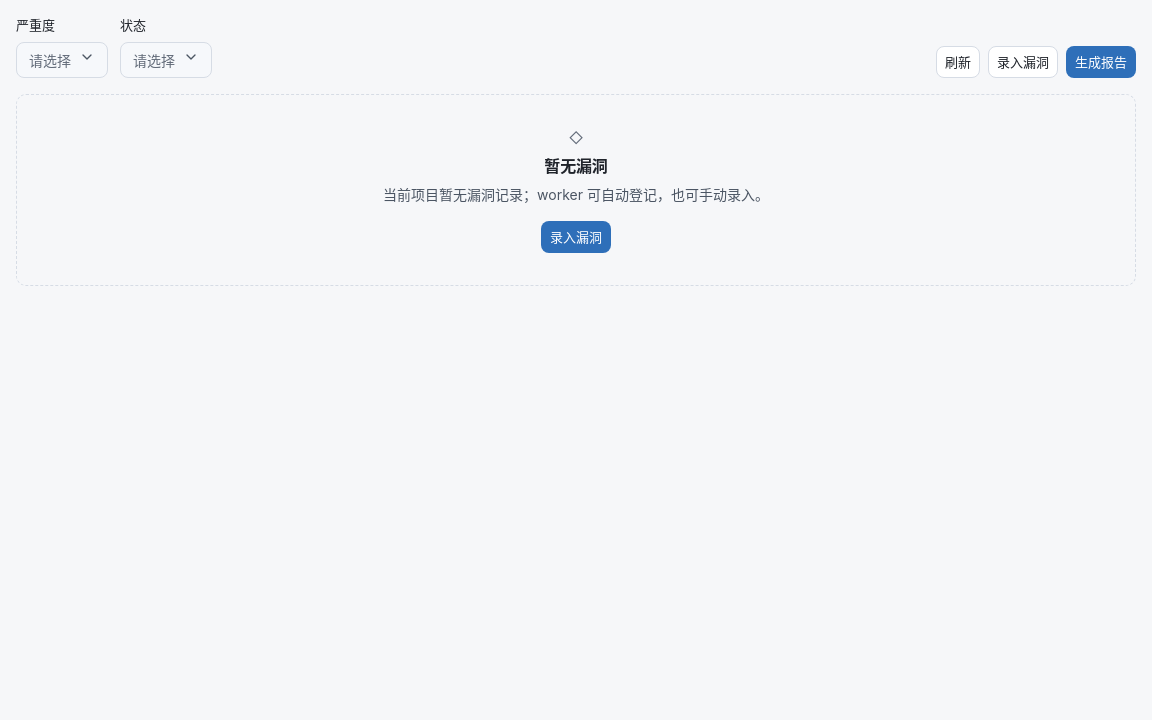
it: VulnerabilitiesPage migration › submits the default payload without legacy HTTP fields and preserves query invalidation
Click the 1st button "录入漏洞" at (1023, 62), box [988, 46, 1058, 78]
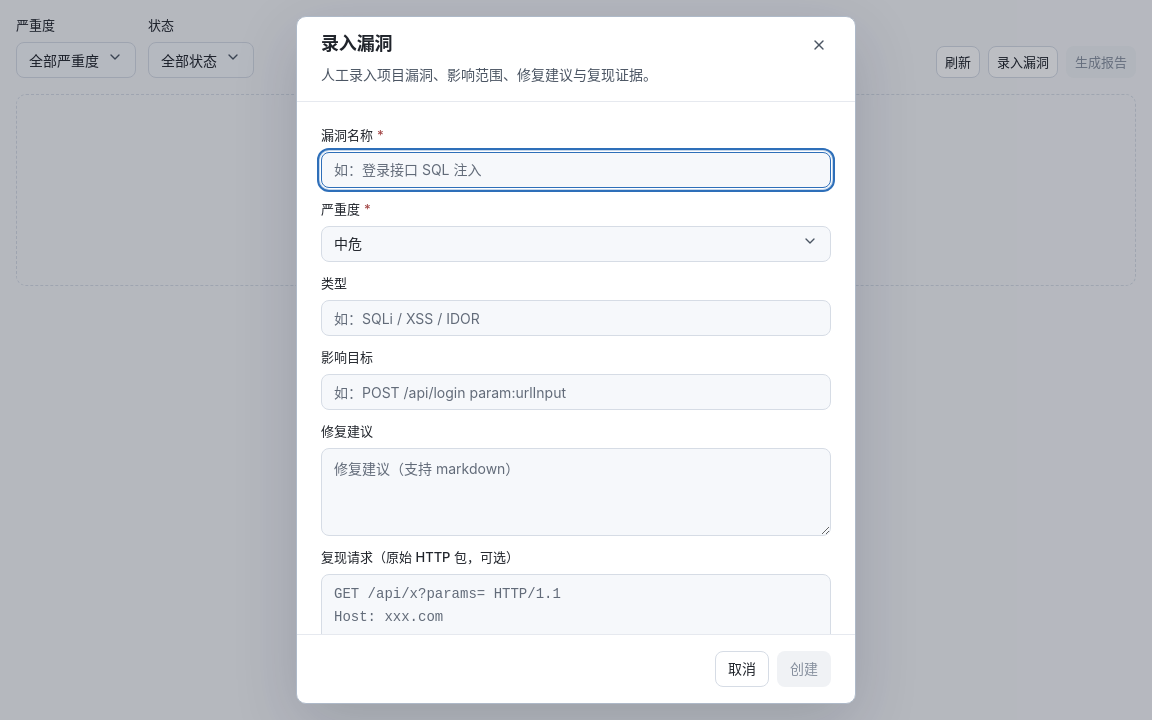
Type "登录接口 SQL 注入" into the field labelled "漏洞名称*" at (576, 170), box [321, 152, 831, 188]
(page scrolled)
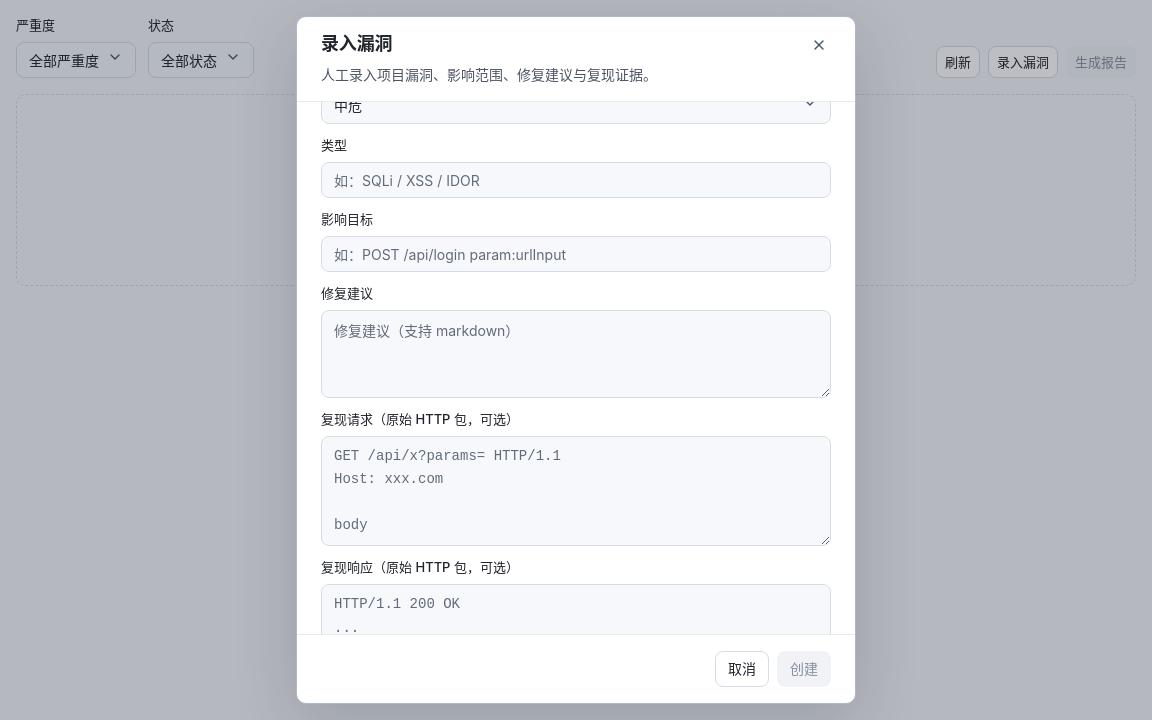
Submit the form with id "create-vulnerability-form"
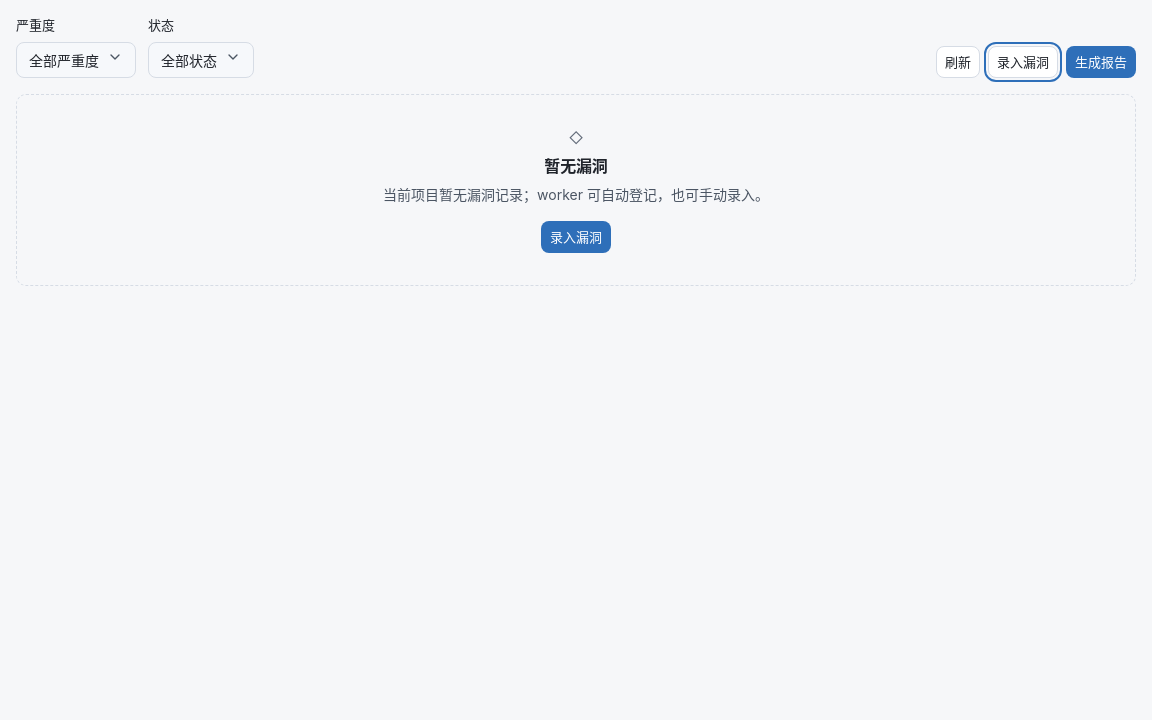
Result: the dialog is gone
